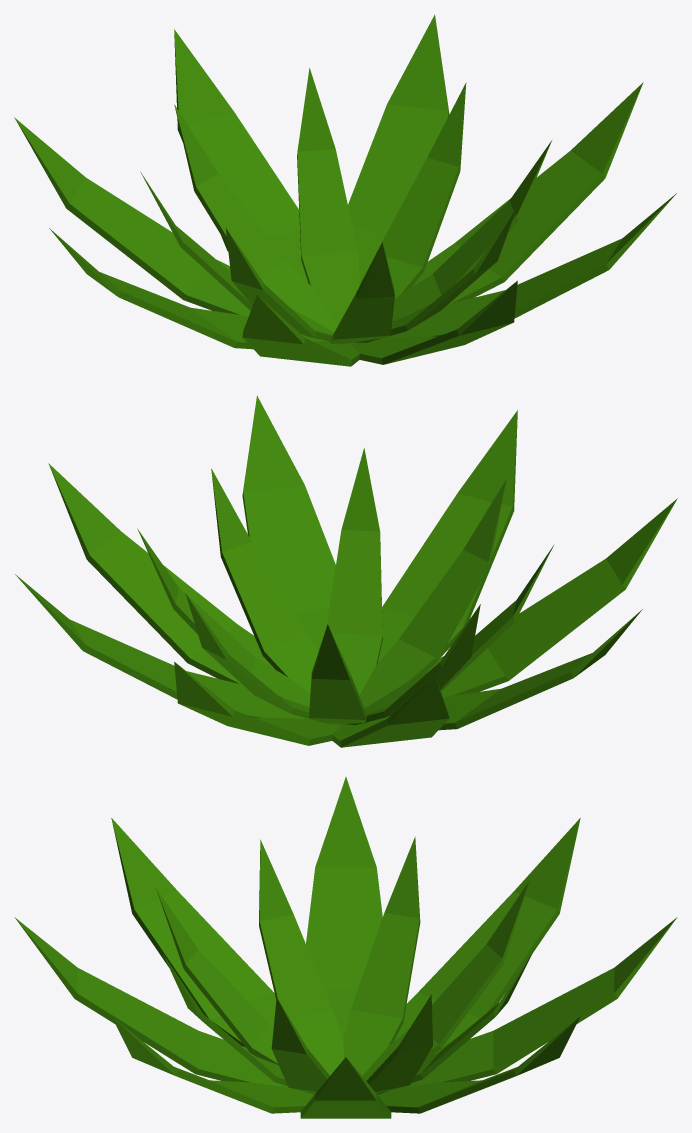
Rendered from Plant_i_03.fbx.
The picture shows the model from 3 angles, top to bottom: view 1: azimuth 30°, elevation 25°; view 2: azimuth 150°, elevation 25°; view 3: azimuth 270°, elevation 25°; orthographic projection. The views are drawn at different scales.
Parts seen in each view (by area): view 1: Plant_i_03_LOD0; view 2: Plant_i_03_LOD0; view 3: Plant_i_03_LOD0.
Part boxes in pixels (left/top/right/bottom): Plant_i_03_LOD0: left=14, top=14, right=676, bottom=366; Plant_i_03_LOD0: left=15, top=395, right=677, bottom=747; Plant_i_03_LOD0: left=14, top=777, right=677, bottom=1118.
Size of what is drawn, in the model's own units: 20.17 by 6.16 by 20.17.
